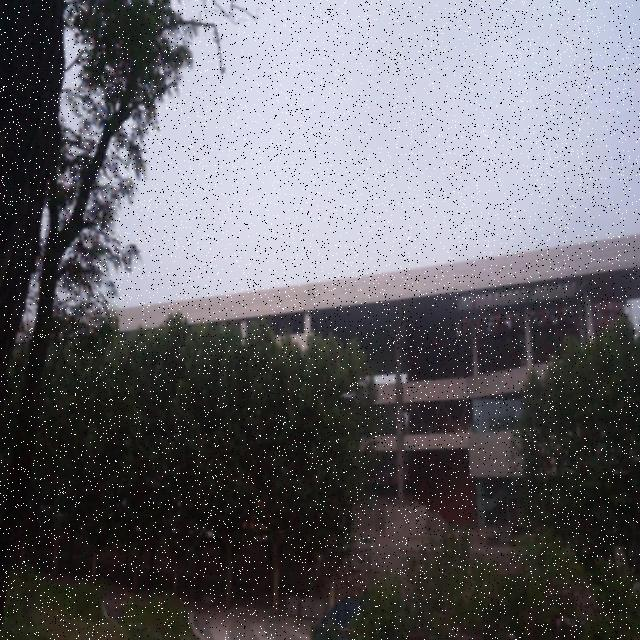UAV: (341, 393, 356, 401)
